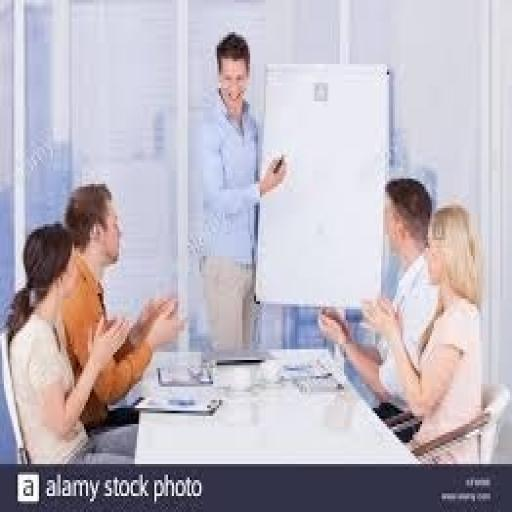clapping: (56, 178, 188, 442), (300, 172, 430, 437), (4, 219, 139, 464), (377, 190, 488, 487), (196, 29, 290, 355)
